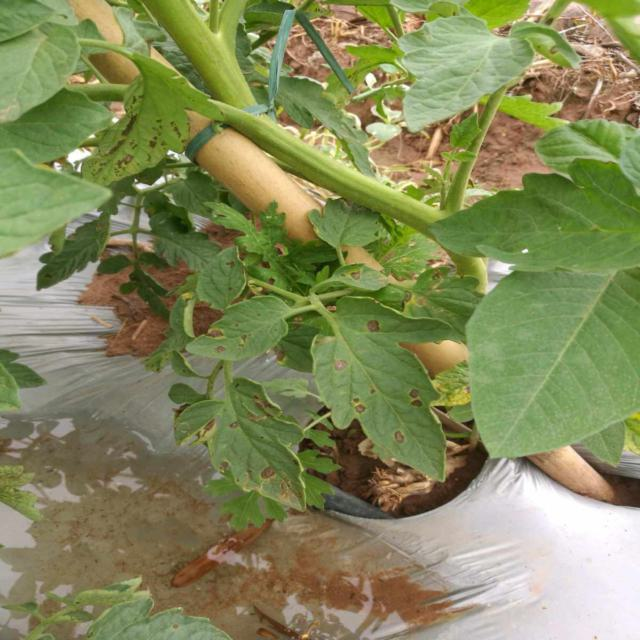Early_blight: (242, 390, 275, 426), (278, 478, 305, 507), (199, 414, 219, 442), (347, 393, 369, 417), (408, 385, 425, 409), (362, 316, 383, 334), (258, 464, 276, 481), (206, 326, 225, 340), (392, 429, 407, 446), (334, 355, 348, 373), (349, 266, 362, 282)
